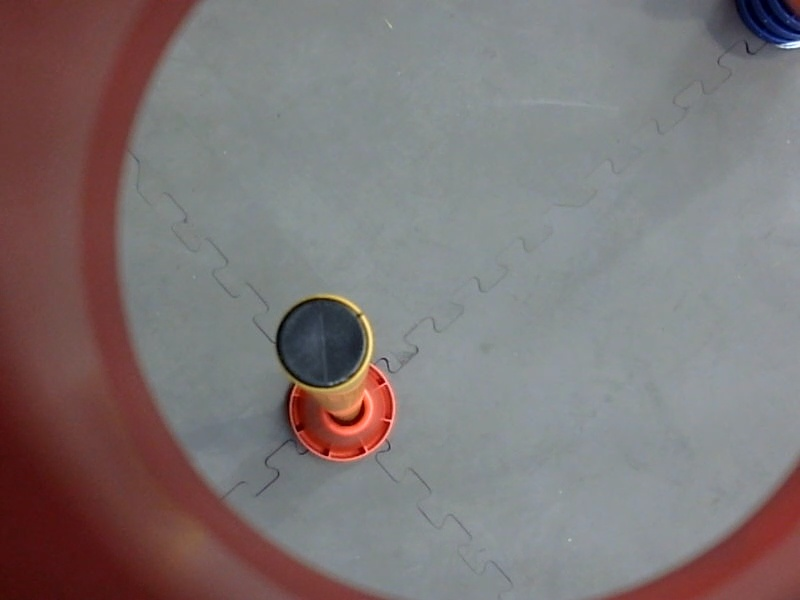tip: (267, 288, 378, 400)
